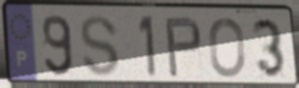1: (137, 14, 158, 80)
3: (251, 17, 288, 79)
9: (40, 14, 74, 79)
O: (207, 16, 248, 80)
P: (163, 15, 204, 79)
S: (79, 14, 122, 79)
